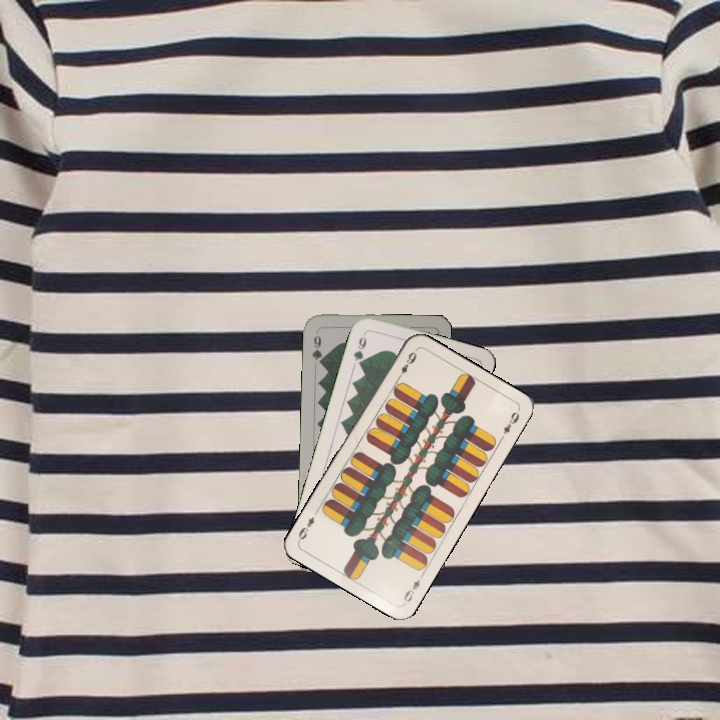E9: (393, 346, 419, 383), (400, 570, 426, 606)
G9: (349, 333, 369, 369), (308, 327, 325, 368)
